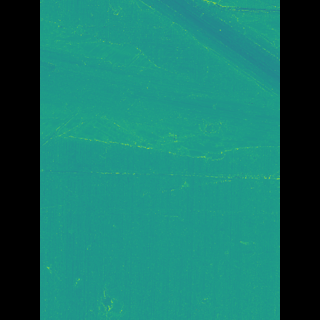Loch: (70, 0, 250, 163), (107, 275, 137, 319)
